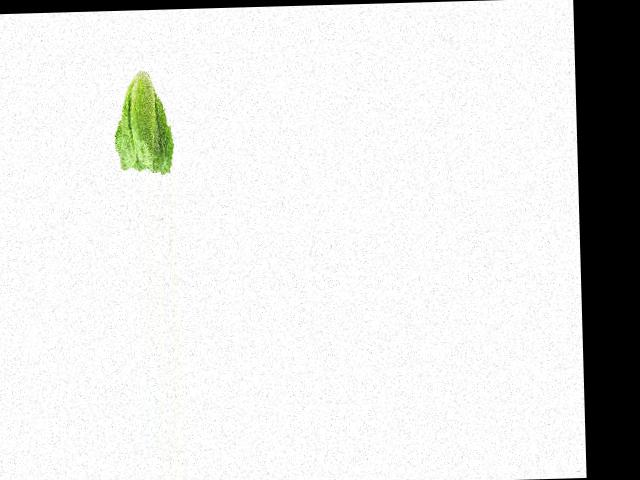lettuce: (105, 71, 177, 176)
